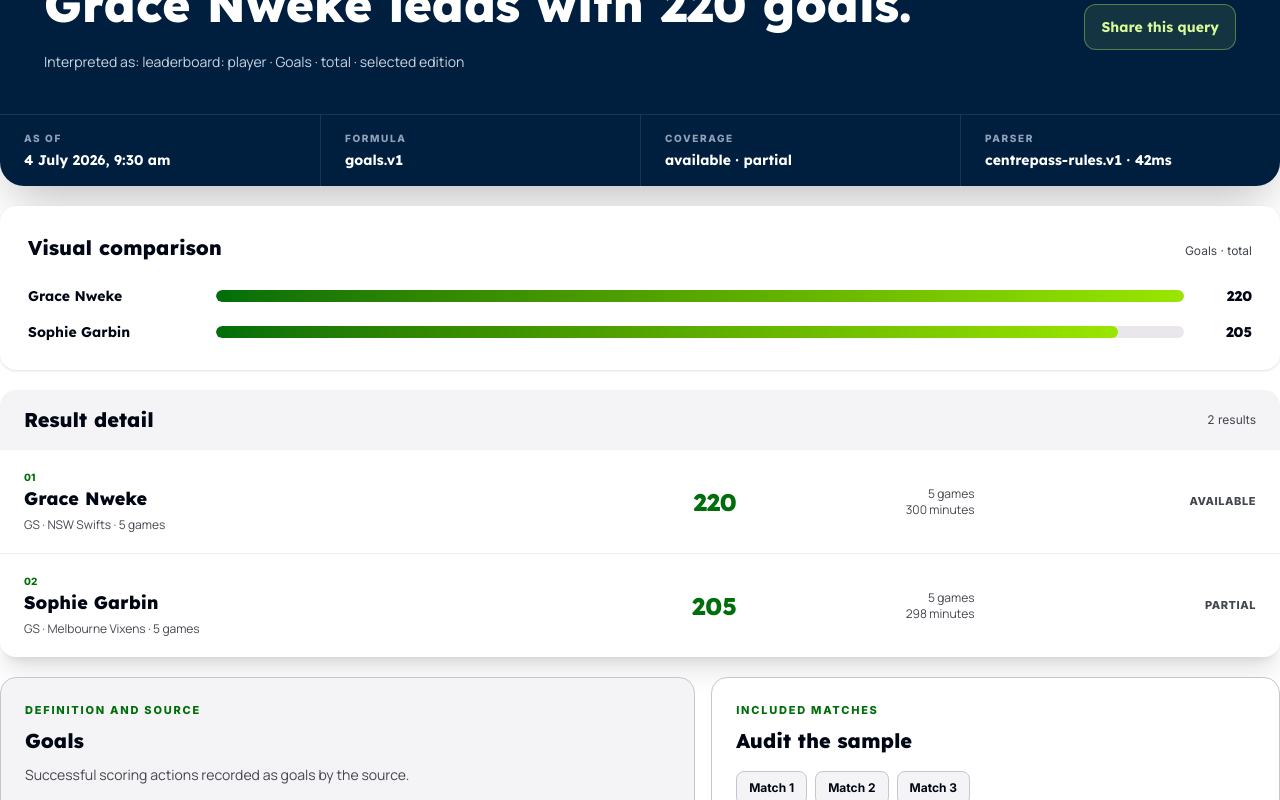
Test: ExploreClient › runs a safe initial URL query once and copies the shareable address
(page scrolled)
Click the button "Share this query" at {"x": 1160, "y": 27}, box x1=1084 y1=4 x2=1236 y2=50
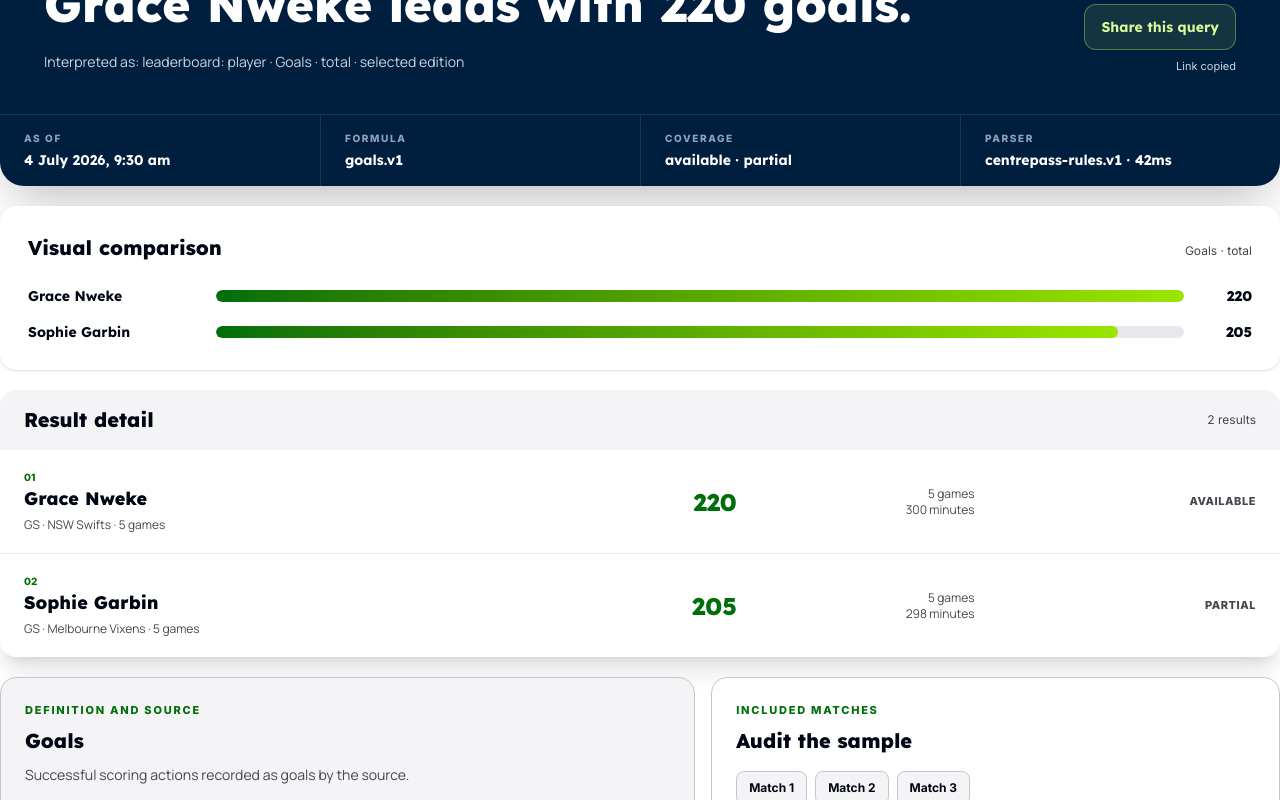
Check: the message reads "Link copied", box x1=1176 y1=58 x2=1236 y2=72
